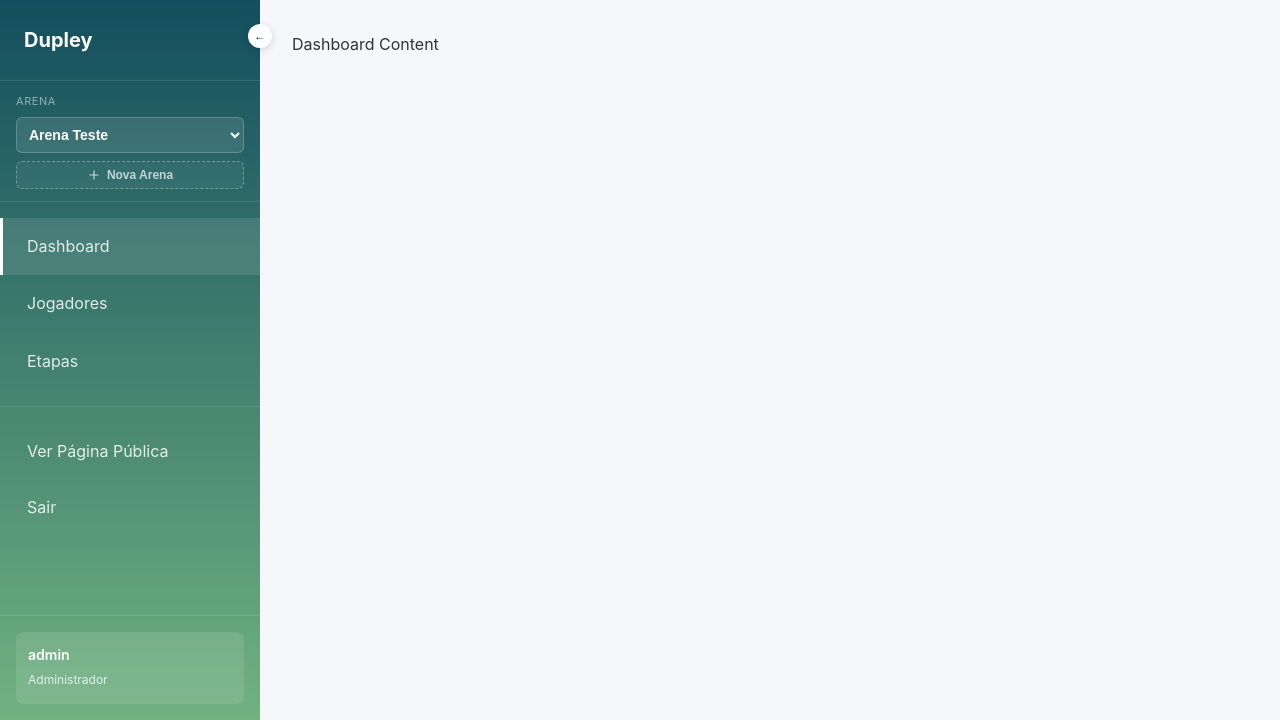
Test: AdminLayout › logout › deve abrir modal de confirmação ao clicar em sair
Press the mouse on the button "Sair" at (42, 507), box [0, 481, 260, 533]
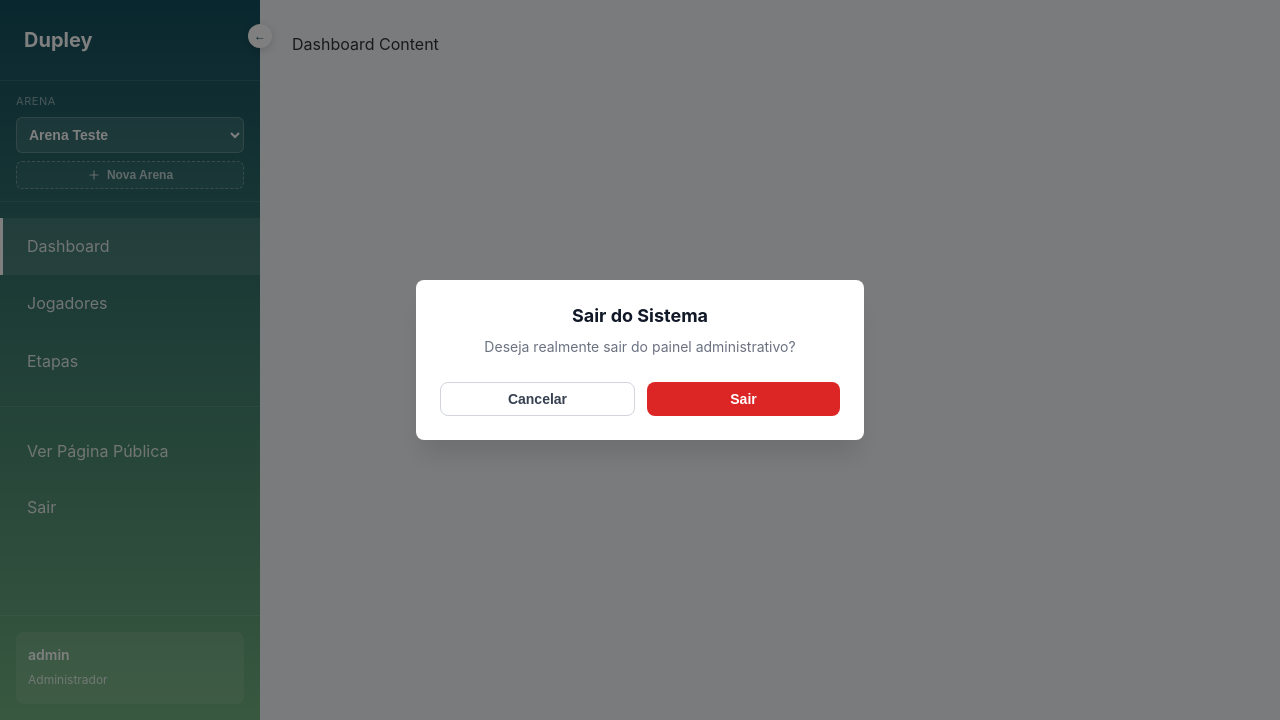
Expected: the heading "Sair do Sistema" is shown, [572, 305, 708, 326]
Expected: the text "Deseja realmente sair do painel administrativo?" is shown, [484, 338, 796, 354]
